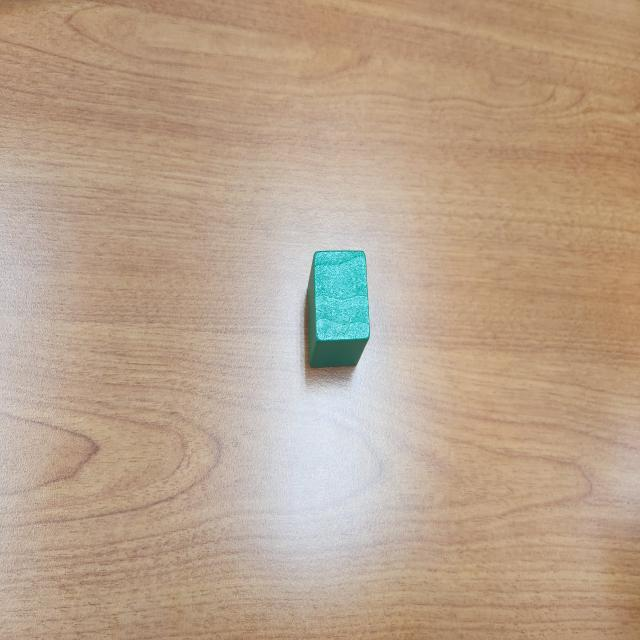green: (306, 249, 370, 369)
